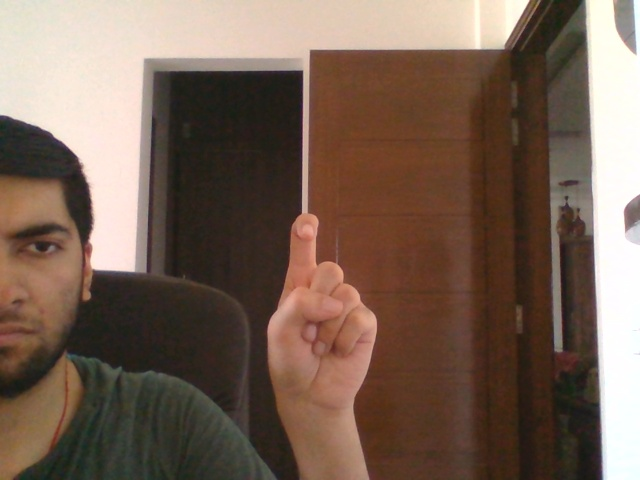LetterX: (265, 210, 381, 413)
